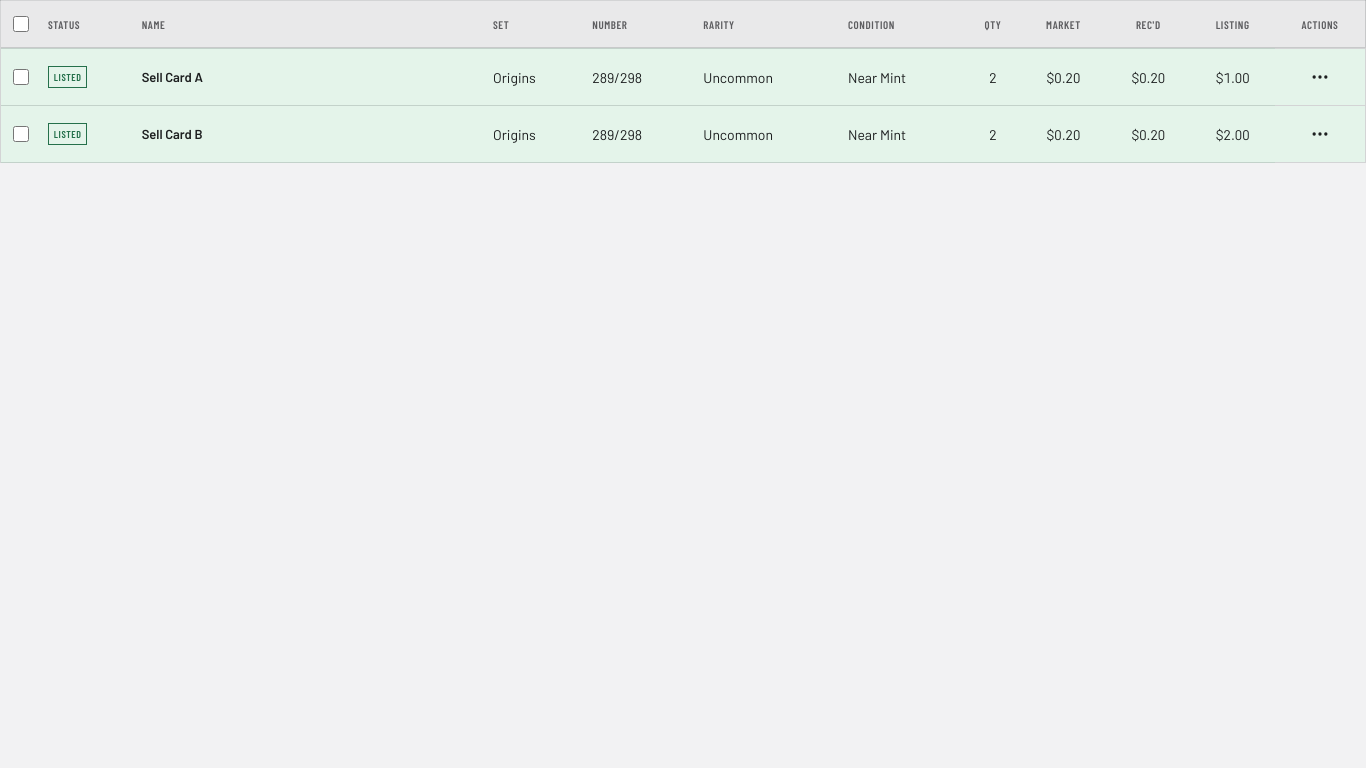
Test case: CardTable sell flow (enableSellFlow) › clicking Attach to Order opens BulkSellModal with selected cards
// Select both cards using header checkbox
Click the checkbox named "Select all order-eligible cards" at {"x": 21, "y": 24}, box x1=13 y1=16 x2=29 y2=32
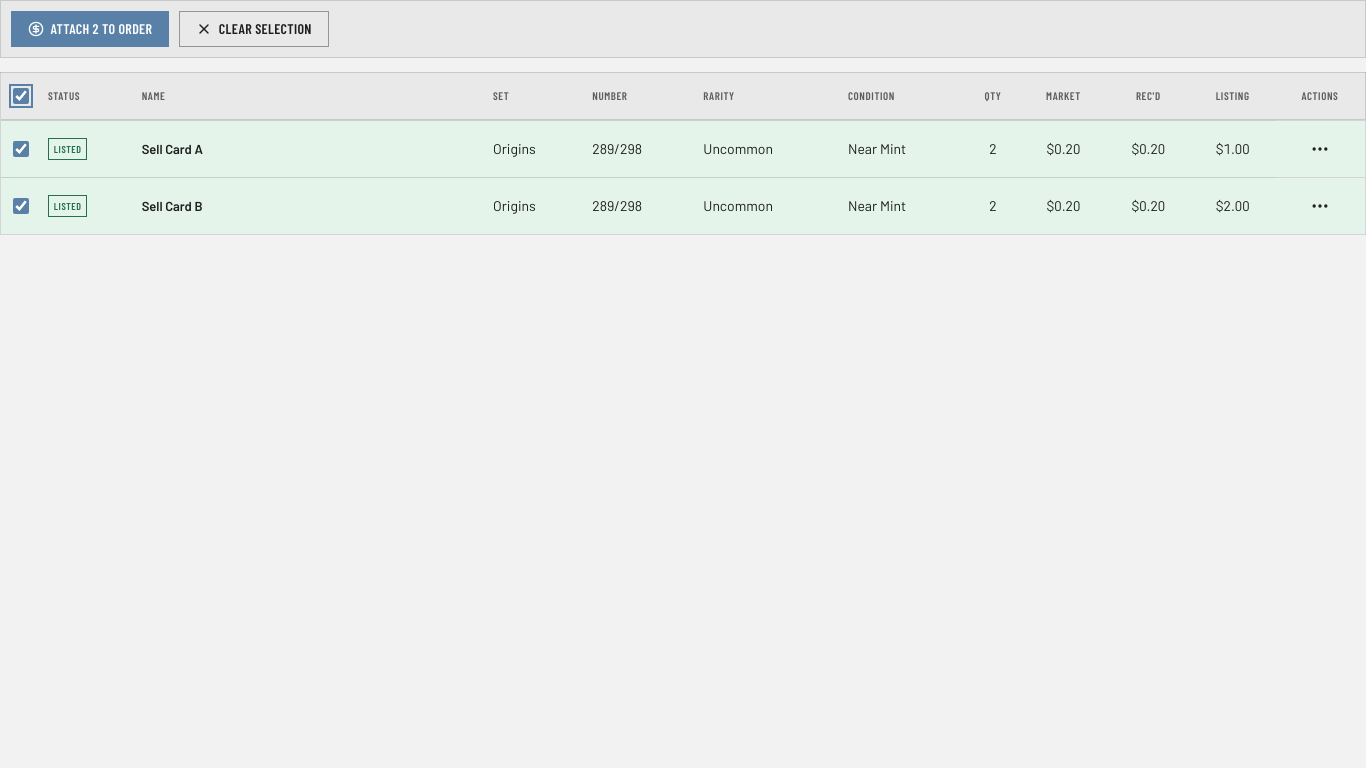
Click the button "Attach 2 to Order" at {"x": 90, "y": 29}, box x1=11 y1=11 x2=169 y2=47
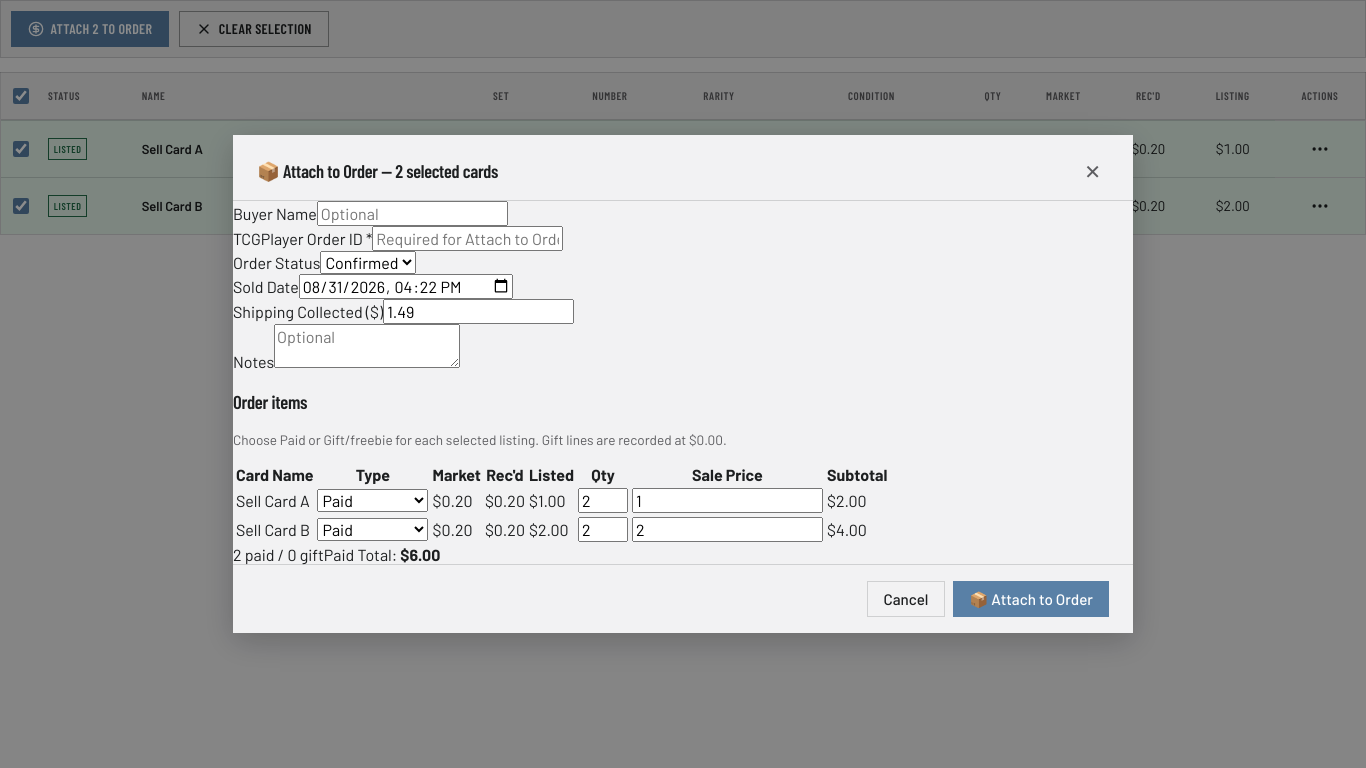
Result: the dialog named "bulk sell" is shown
Result: the text "Sell Card A" is shown at x1=235 y1=487 x2=314 y2=514
Result: the text "Sell Card B" is shown at x1=235 y1=516 x2=314 y2=543
